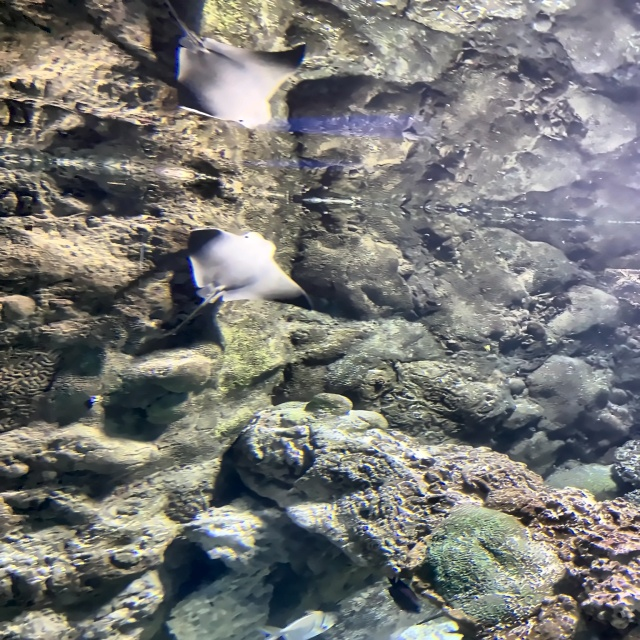fish: (260, 611, 338, 639), (385, 576, 424, 615)
stingray: (176, 35, 306, 130), (188, 228, 312, 312)
